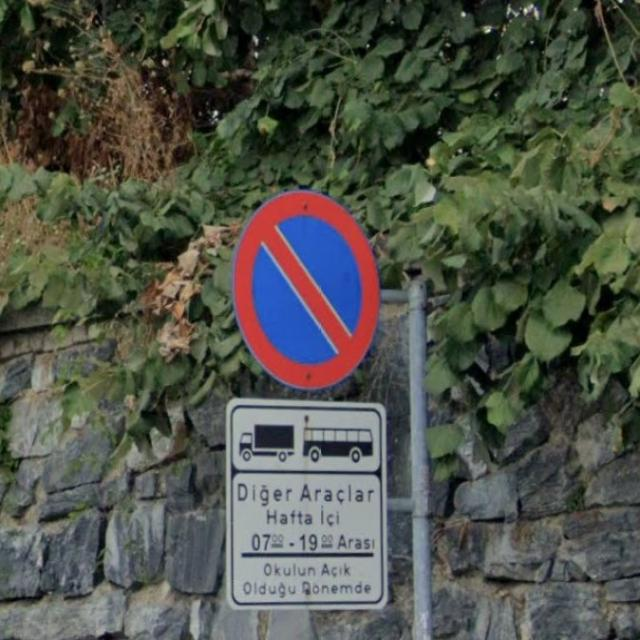parkyasak: (234, 190, 380, 388)
